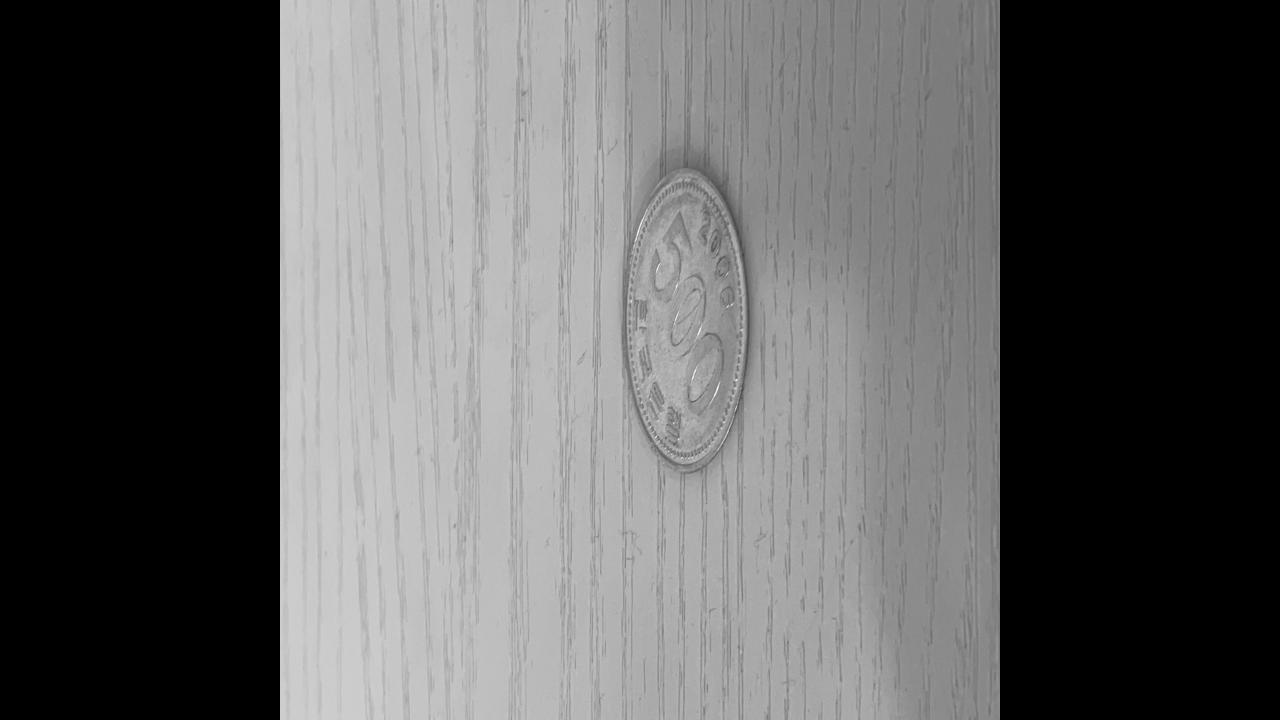coin: (622, 167, 748, 475)
